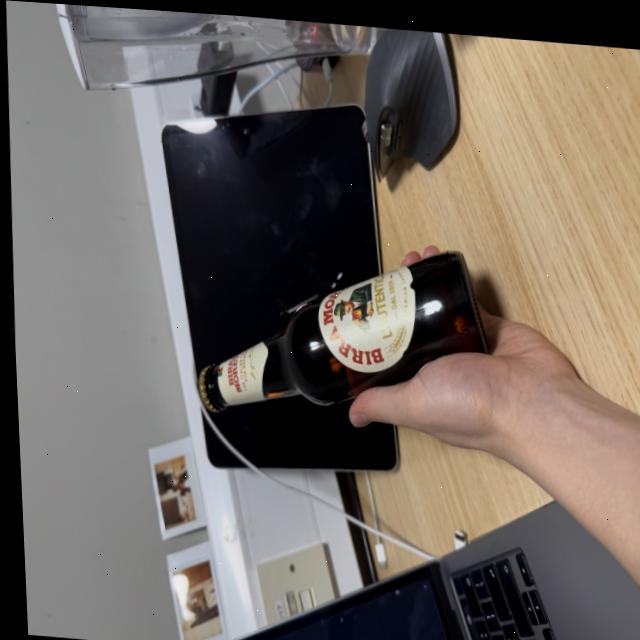beer: (185, 222, 499, 433)
